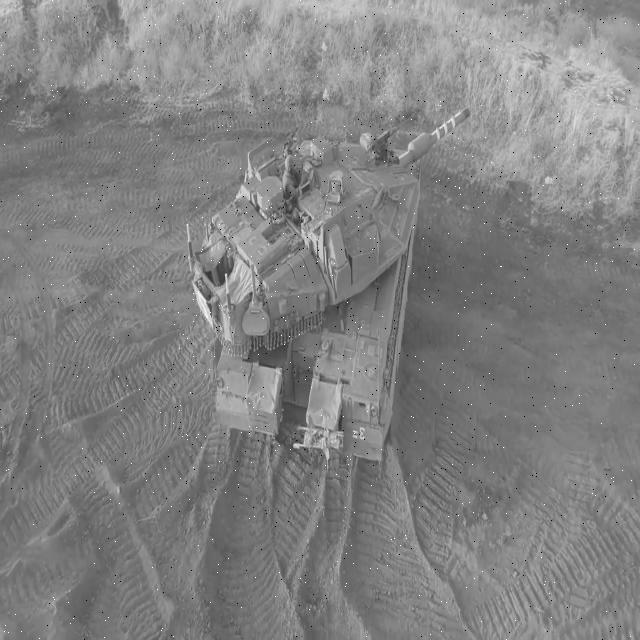MIL_MBT: (156, 94, 495, 498)
